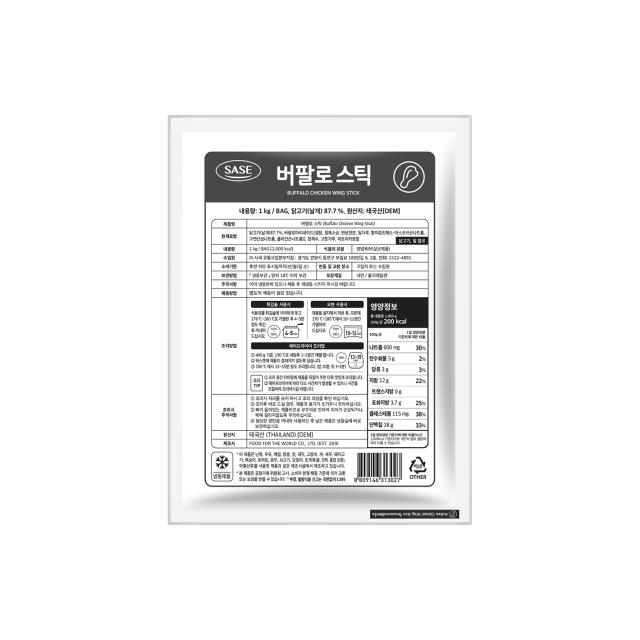Nutrition Label: (367, 292, 435, 456)
